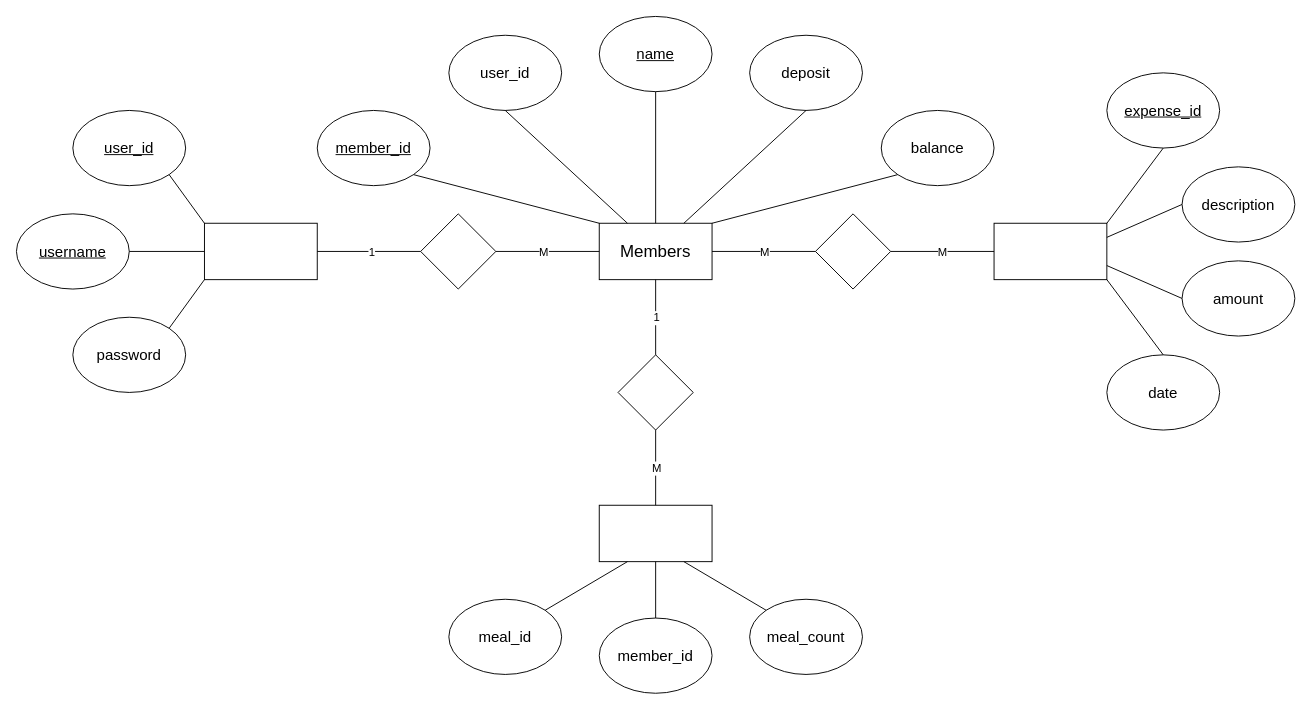
Some shapes in this 1311 by 710 pixel diagram are drawn without their labels. Here are the shapes that lost their labels. From the top down, the box of each, then its label:
(204, 222, 317, 280): Users
(420, 213, 496, 289): Manage
(815, 213, 891, 289): Have
(993, 222, 1107, 280): Expenses
(617, 354, 693, 430): Consume
(598, 504, 712, 562): Meals
